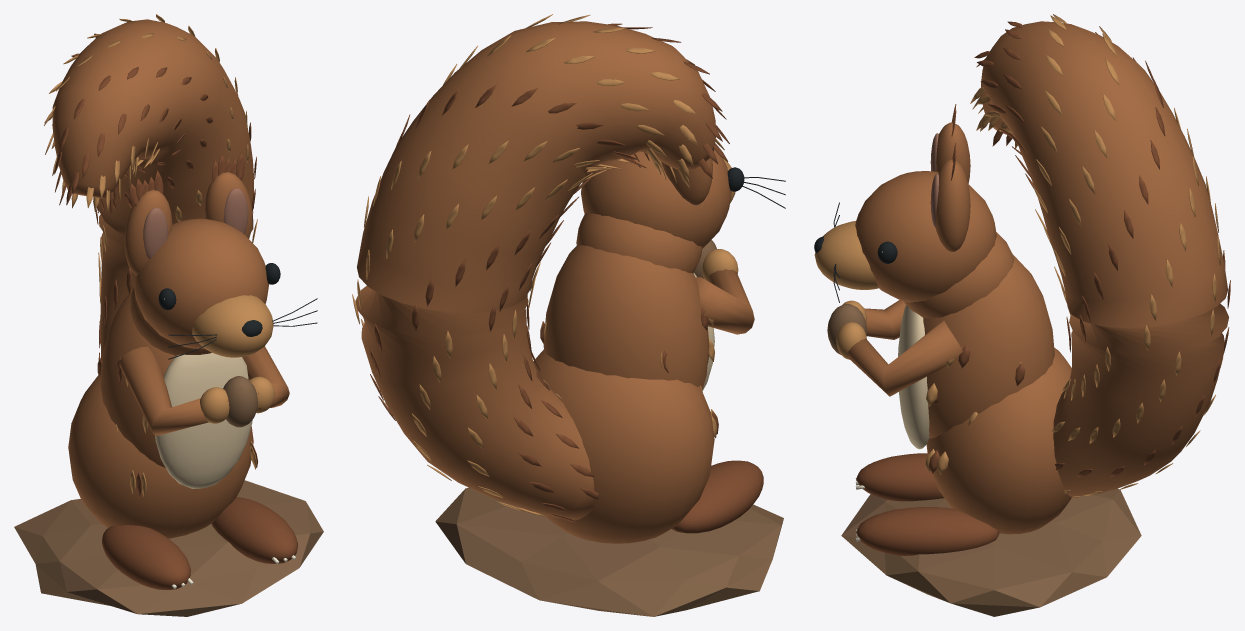
Rendered from SquirrelMount.fbx.
The picture shows the model from 3 angles, left to right: view 1: azimuth 30°, elevation 25°; view 2: azimuth 150°, elevation 25°; view 3: azimuth 270°, elevation 25°; orthographic projection. The views are drawn at different scales.
Parts seen in each view (by area): view 1: SquirrelMount_SquirrelChestnut, SquirrelMount_NaturalBranch, SquirrelMount_SquirrelFurShadow, SquirrelMount_SquirrelGuardHair, SquirrelMount_SquirrelBelly, SquirrelMount_SquirrelEarInner, SquirrelMount_EyeAndBill; view 2: SquirrelMount_SquirrelChestnut, SquirrelMount_NaturalBranch, SquirrelMount_SquirrelFurShadow, SquirrelMount_SquirrelGuardHair; view 3: SquirrelMount_SquirrelChestnut, SquirrelMount_NaturalBranch, SquirrelMount_SquirrelFurShadow, SquirrelMount_SquirrelGuardHair, SquirrelMount_SquirrelBelly, SquirrelMount_EyeAndBill.
Part boxes in pixels (<box>): SquirrelMount_SquirrelChestnut: <box>52,19,289,538</box>; SquirrelMount_NaturalBranch: <box>14,376,323,616</box>; SquirrelMount_SquirrelFurShadow: <box>54,33,297,589</box>; SquirrelMount_SquirrelGuardHair: <box>44,14,274,496</box>; SquirrelMount_SquirrelBelly: <box>155,353,252,488</box>; SquirrelMount_SquirrelEarInner: <box>143,188,248,258</box>; SquirrelMount_EyeAndBill: <box>158,263,317,359</box>; SquirrelMount_SquirrelChestnut: <box>355,21,754,543</box>; SquirrelMount_NaturalBranch: <box>435,240,783,616</box>; SquirrelMount_SquirrelFurShadow: <box>370,23,763,533</box>; SquirrelMount_SquirrelGuardHair: <box>352,14,738,516</box>; SquirrelMount_SquirrelChestnut: <box>847,21,1228,534</box>; SquirrelMount_NaturalBranch: <box>827,304,1141,616</box>; SquirrelMount_SquirrelFurShadow: <box>856,21,1230,555</box>; SquirrelMount_SquirrelGuardHair: <box>814,14,1223,498</box>; SquirrelMount_SquirrelBelly: <box>898,305,929,449</box>; SquirrelMount_EyeAndBill: <box>814,202,897,302</box>.
Bounding box in the file's own units: 0.5655 × 1 × 0.7049.
